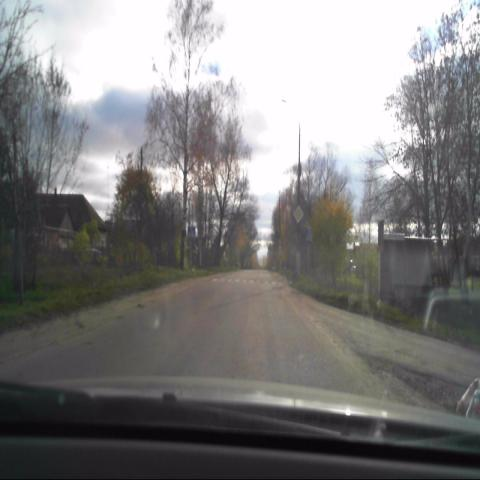2_1: (292, 206, 302, 222)
5_19_1: (305, 226, 313, 244), (188, 225, 197, 240)
